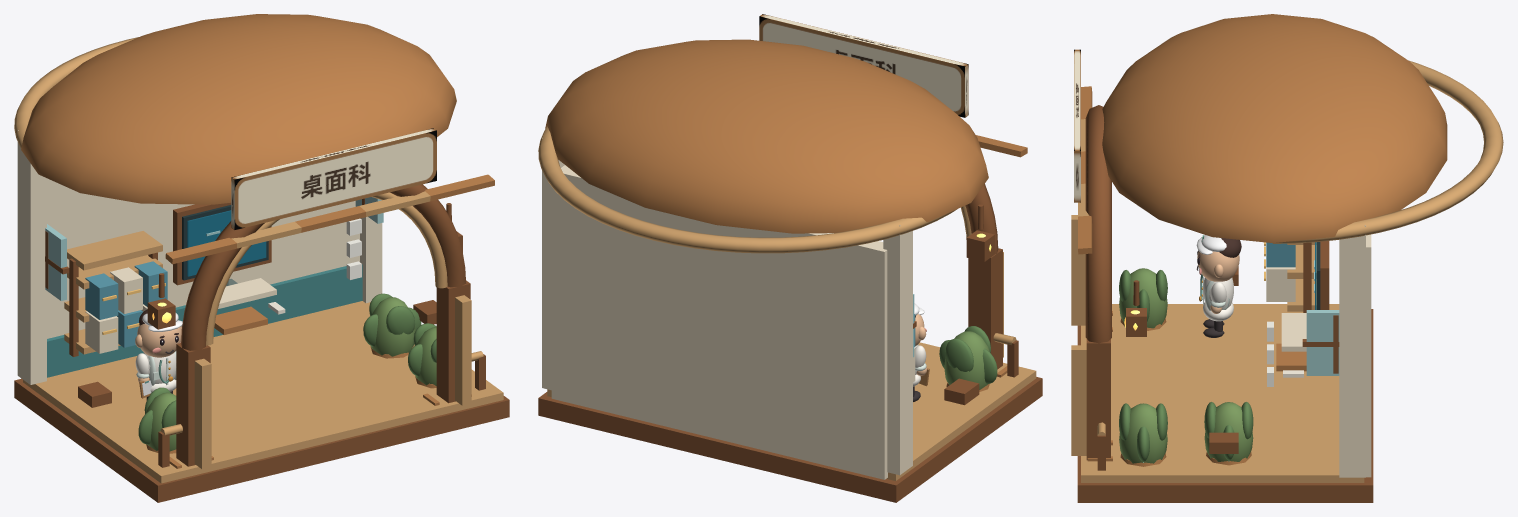
File: desktop.glb
3 views of the same model, side by side, from view 1: azimuth 30°, elevation 25°; view 2: azimuth 150°, elevation 25°; view 3: azimuth 270°, elevation 25° (orthographic). The views are drawn at different scales.
Parts seen in each view (by area): view 1: static batch geometry (×8), static batch platform, sign-桌面科, desktop clinic, large-head; view 2: static batch geometry (×5), static batch platform, sign-桌面科; view 3: static batch geometry (×7), static batch platform, sign-桌面科, large-head, desktop clinic.
Part boxes in pixels (left/top/right/bottom): static batch geometry (×8): left=14, top=14, right=503, bottom=483; static batch platform: left=14, top=184, right=509, bottom=502; sign-桌面科: left=231, top=128, right=436, bottom=229; desktop clinic: left=47, top=205, right=362, bottom=377; large-head: left=137, top=324, right=181, bottom=357; static batch geometry (×5): left=538, top=39, right=1036, bottom=480; static batch platform: left=538, top=184, right=1042, bottom=502; sign-桌面科: left=759, top=14, right=968, bottom=117; static batch geometry (×7): left=1071, top=14, right=1503, bottom=482; static batch platform: left=1077, top=105, right=1373, bottom=502; sign-桌面科: left=1074, top=49, right=1080, bottom=202; large-head: left=1197, top=251, right=1239, bottom=281; desktop clinic: left=1283, top=242, right=1320, bottom=377.
Bounding box in the file's own units: 6.84 × 5.62 × 6.21.
Materials: 31 (1 with a texture image).
